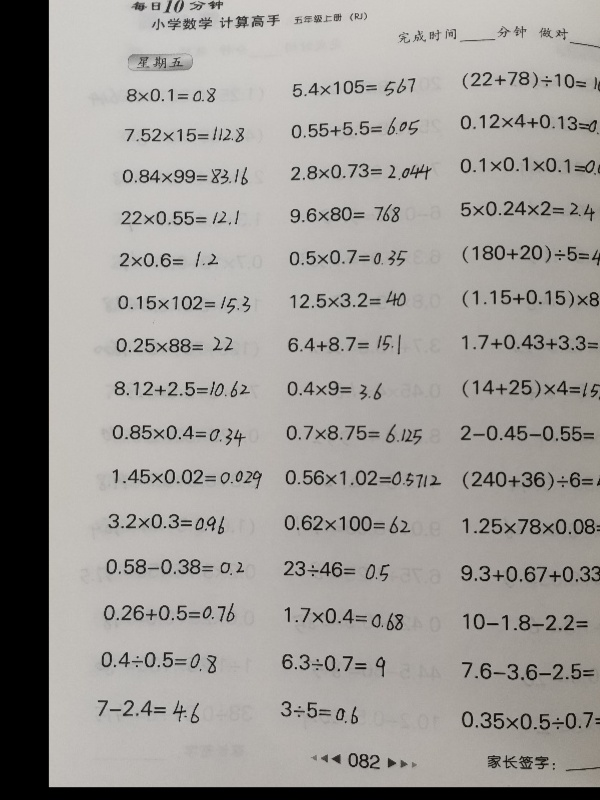equation: (458, 699, 600, 734), (454, 557, 600, 589), (456, 152, 600, 181), (456, 109, 600, 138), (458, 655, 600, 684), (458, 466, 600, 495), (458, 285, 600, 314), (281, 465, 444, 490), (458, 375, 600, 403), (458, 329, 600, 357), (108, 465, 265, 490), (458, 240, 600, 267), (458, 67, 600, 94), (459, 513, 600, 540), (100, 599, 239, 626), (282, 419, 425, 445), (108, 420, 249, 446), (457, 196, 598, 222), (272, 694, 379, 728), (288, 160, 436, 184), (458, 421, 600, 446), (287, 114, 423, 140), (459, 610, 600, 635), (102, 554, 247, 578), (280, 511, 413, 537), (280, 603, 407, 630), (111, 377, 253, 401), (114, 291, 254, 315), (97, 646, 221, 673), (119, 164, 252, 189), (94, 693, 204, 723), (289, 75, 419, 100), (104, 509, 228, 535), (277, 650, 388, 679), (287, 200, 405, 227), (285, 245, 411, 270), (284, 330, 404, 356), (120, 122, 248, 146), (280, 557, 393, 583), (112, 333, 236, 356), (285, 288, 409, 311), (118, 207, 243, 229), (283, 376, 385, 402), (117, 248, 222, 271), (123, 84, 220, 107)
